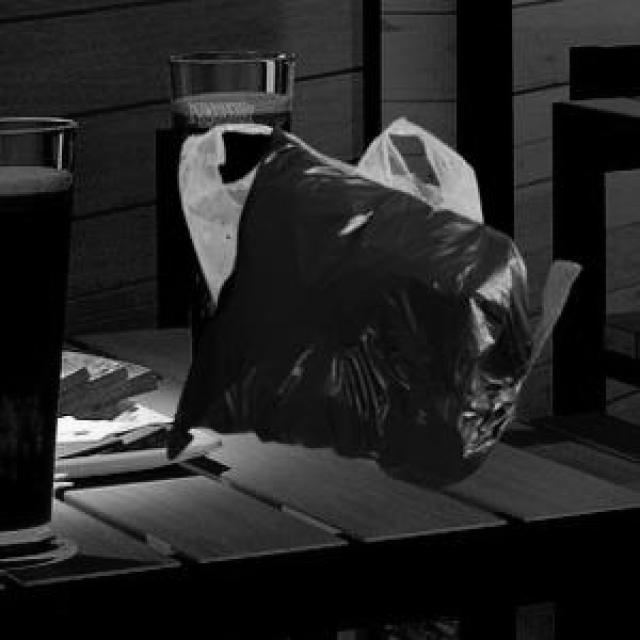miscellaneous trash: (164, 117, 576, 486)
